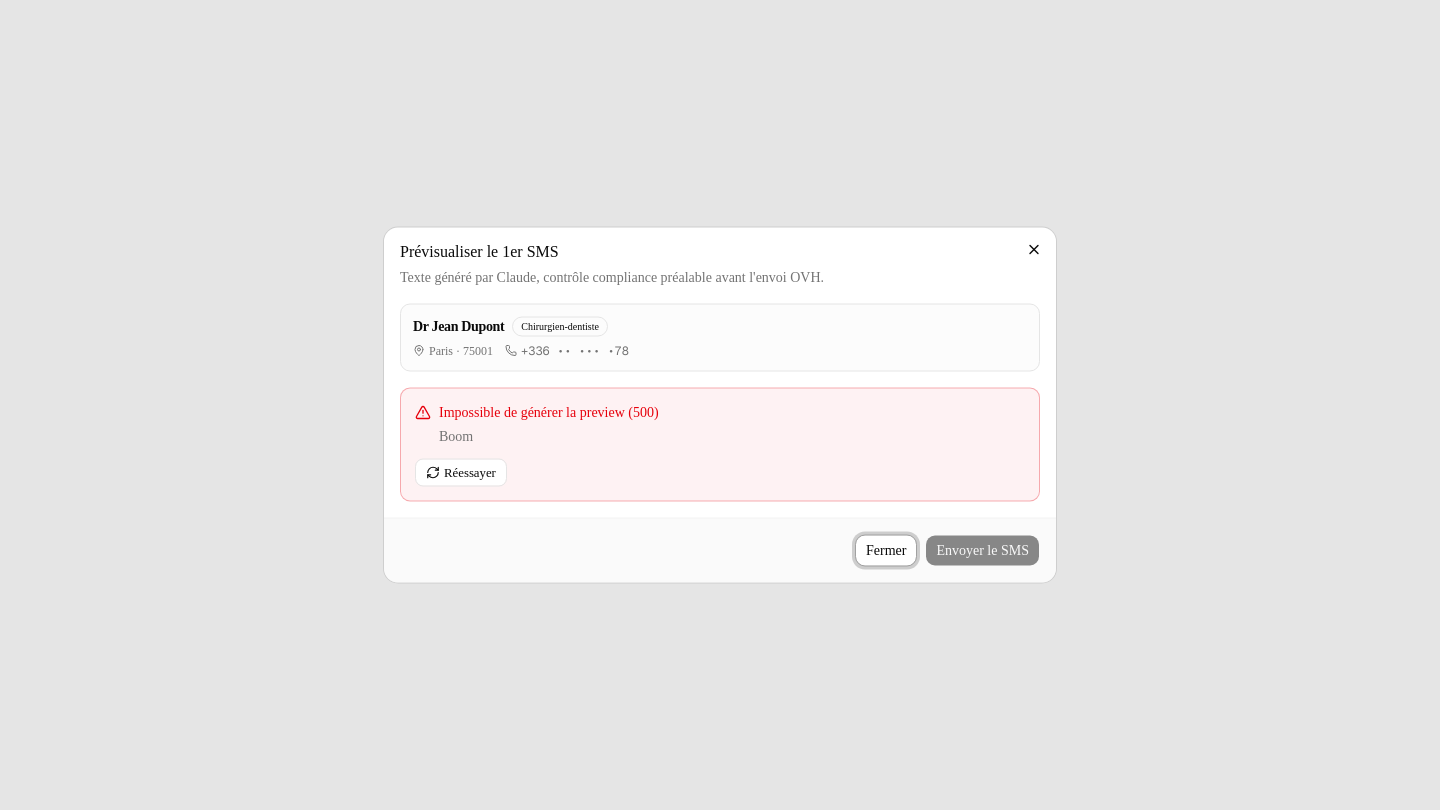
Test case: PreviewDialog (S10.1.6 — UX premium) › clic Réessayer → re-fetch (deuxième appel API)
Click the button "Réessayer". click: (461, 472)
box: [415,458,507,486]
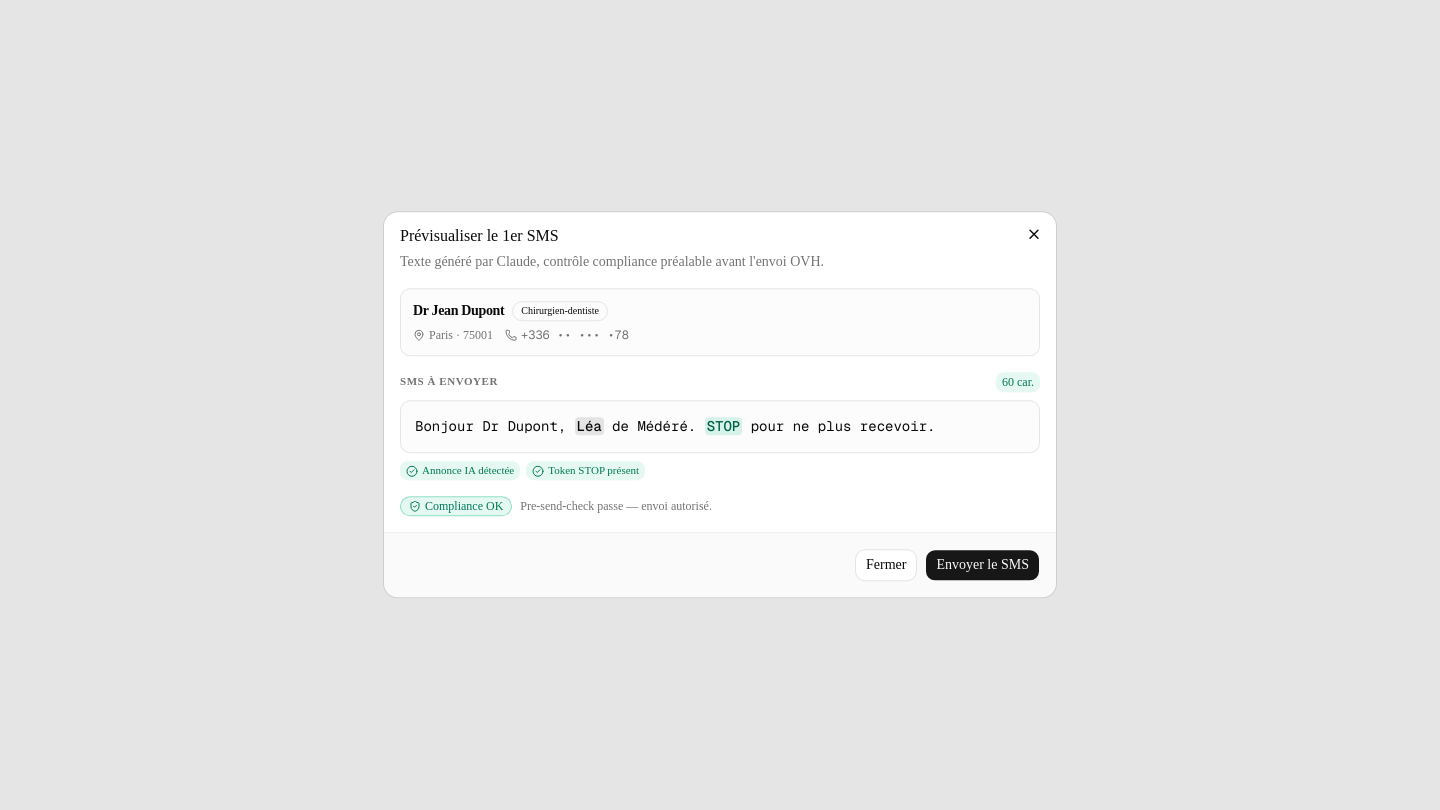
Expected: the text "Compliance OK" is shown, [400,497,512,517]
